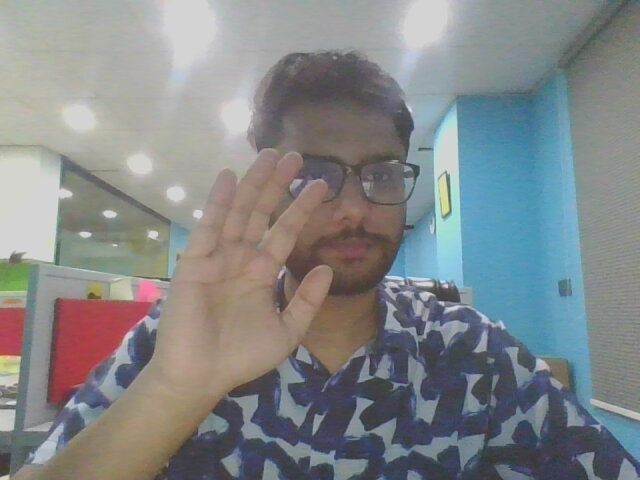hello: (151, 143, 349, 400)
